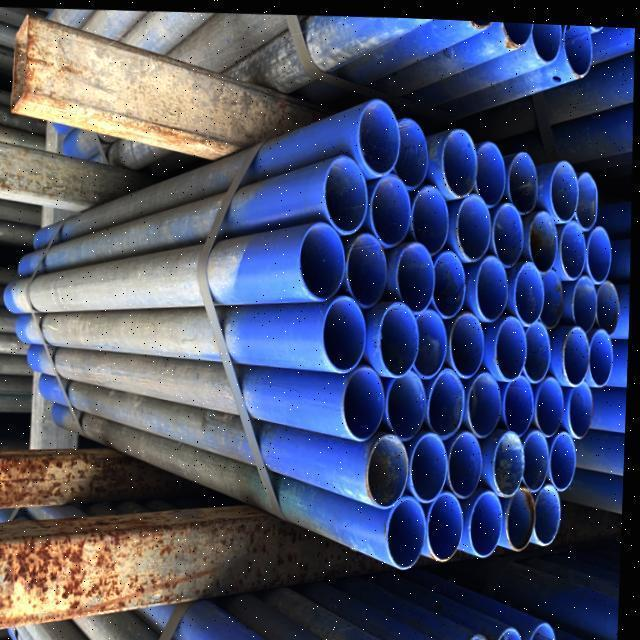pipe: (296, 216, 346, 298), (321, 147, 369, 230), (320, 290, 367, 371), (354, 93, 401, 172), (365, 428, 412, 506), (341, 359, 387, 438), (343, 226, 388, 304), (376, 295, 420, 374), (367, 167, 412, 244), (385, 489, 428, 566), (393, 235, 436, 310), (388, 111, 429, 187), (385, 364, 428, 436), (426, 362, 467, 436), (409, 426, 450, 499), (409, 178, 450, 251), (438, 121, 479, 192), (427, 486, 467, 558), (410, 303, 449, 376), (454, 186, 492, 258), (447, 425, 485, 494), (466, 365, 504, 434), (448, 305, 486, 374), (469, 484, 506, 554), (431, 244, 468, 314), (472, 134, 507, 204), (493, 309, 529, 377), (475, 248, 510, 317), (493, 425, 528, 493), (490, 195, 525, 263), (512, 254, 546, 321), (502, 368, 537, 433), (506, 479, 539, 547), (526, 202, 559, 269), (521, 313, 554, 379), (506, 145, 539, 210), (534, 369, 567, 433), (547, 153, 580, 217), (534, 477, 565, 541), (521, 423, 552, 487), (562, 319, 592, 382), (559, 212, 589, 274), (536, 261, 565, 324), (550, 424, 579, 485), (567, 373, 596, 434), (585, 217, 614, 278), (571, 267, 600, 328), (589, 321, 616, 382), (572, 164, 599, 225), (595, 273, 622, 330)
